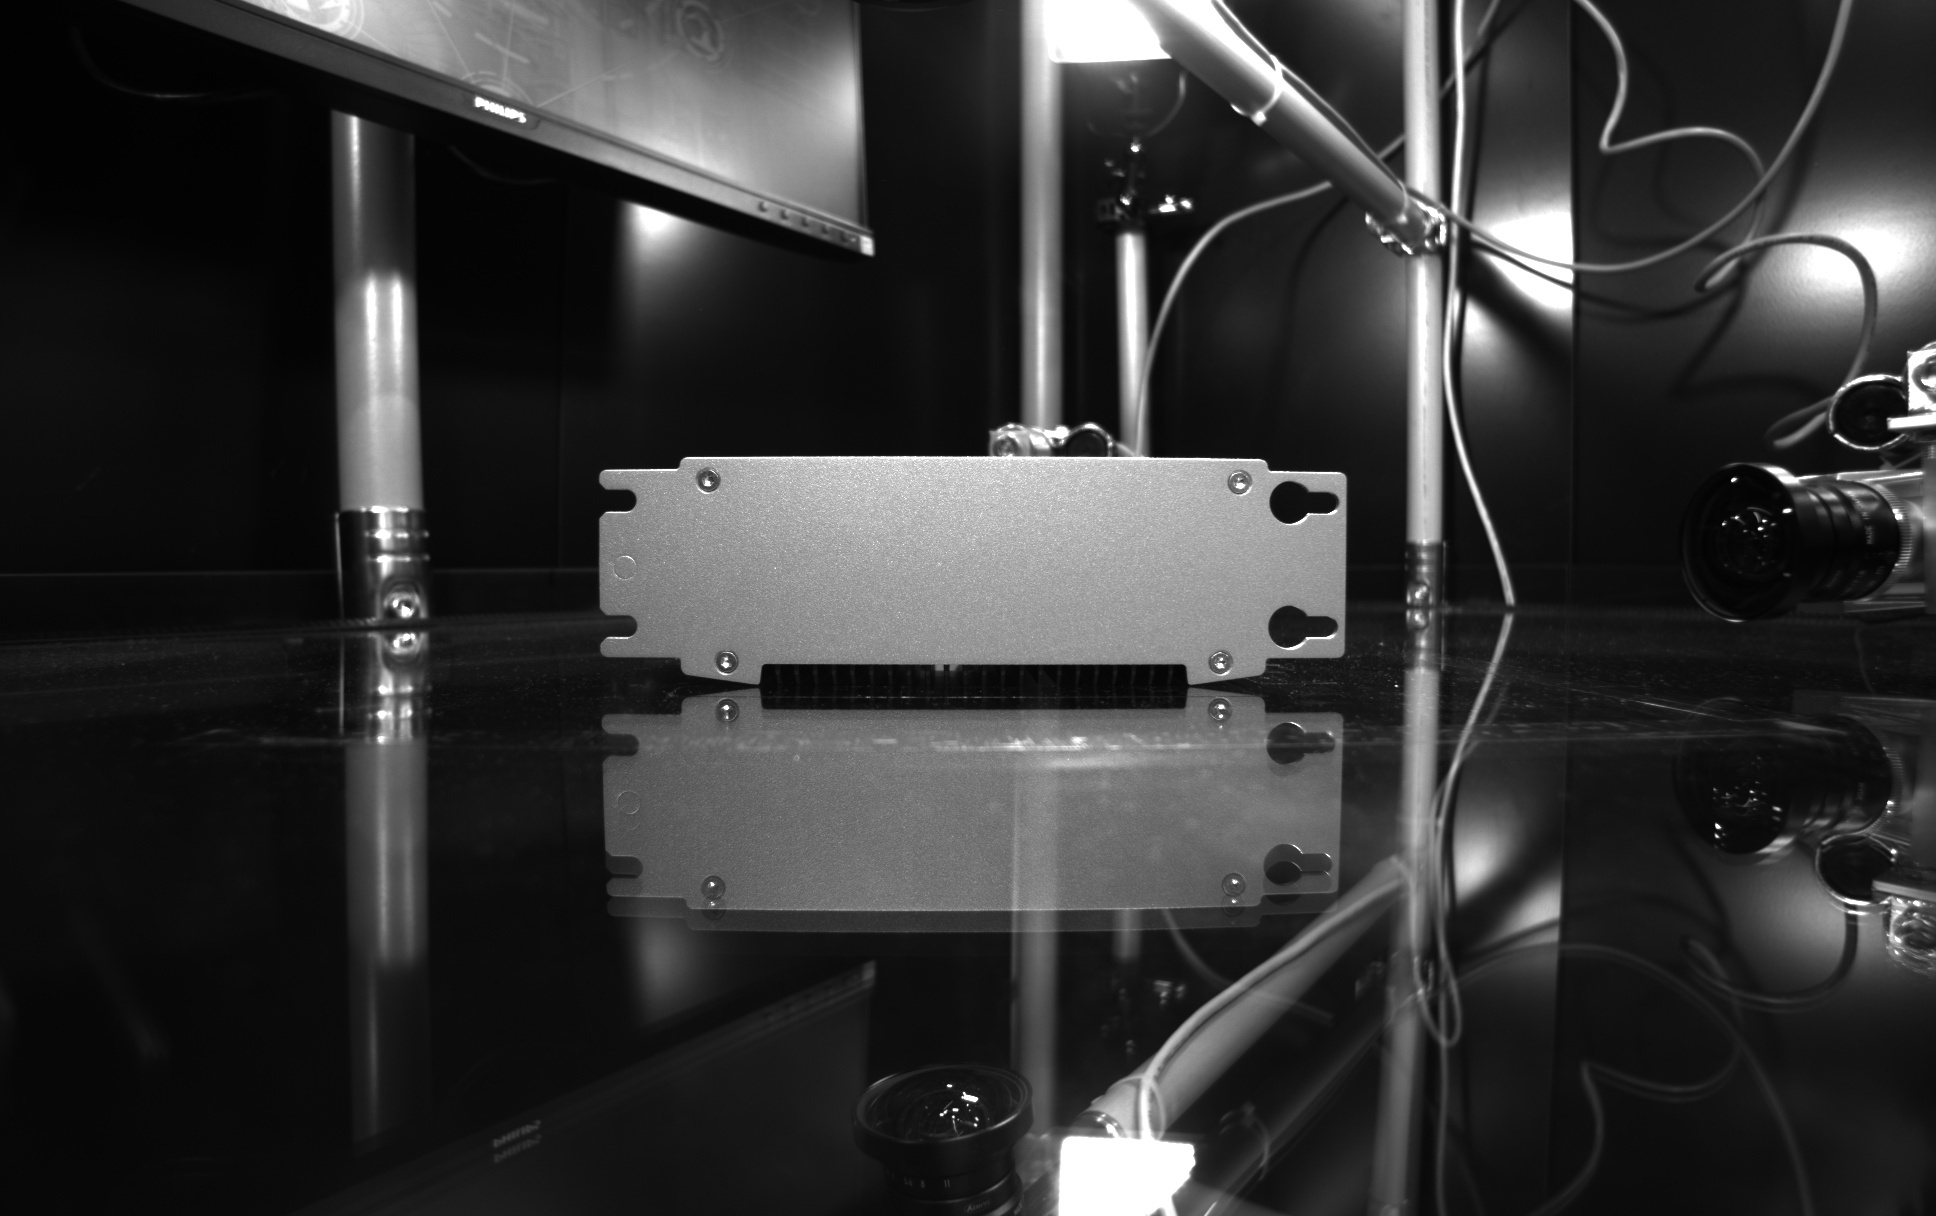CamBack: (579, 431, 1367, 693)
Schraube: (709, 642, 747, 679), (1223, 467, 1258, 500), (1205, 646, 1238, 679), (693, 467, 726, 499)
Schraube_gespiegelt: (693, 870, 733, 929), (1199, 693, 1238, 752), (707, 693, 747, 752), (1215, 867, 1252, 926)
